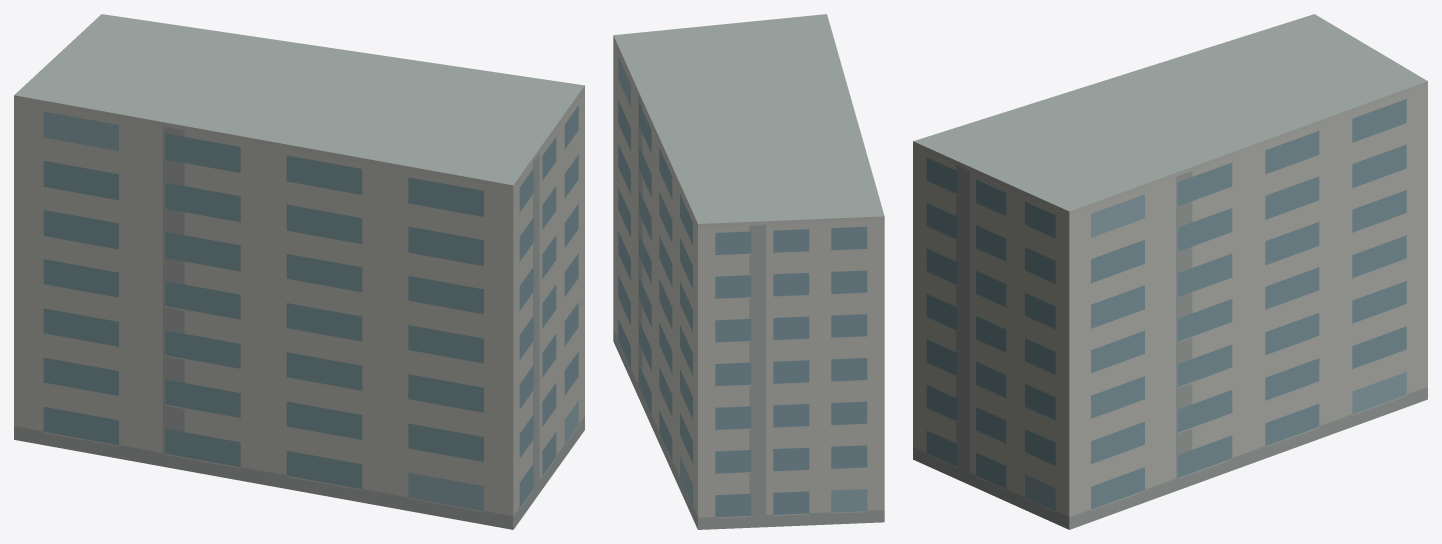
File: survey-upis-32683962.glb
3 renders of one model, left to right at view 1: azimuth 30°, elevation 25°; view 2: azimuth 150°, elevation 25°; view 3: azimuth 270°, elevation 25°, orthographic. The views are drawn at different scales.
Parts seen in each view (by area): view 1: survey-upis-32683962.tmp; view 2: survey-upis-32683962.tmp; view 3: survey-upis-32683962.tmp.
Boxes of the visible parts, <box> form: survey-upis-32683962.tmp: <box>14,14,584,529</box>; survey-upis-32683962.tmp: <box>613,14,884,529</box>; survey-upis-32683962.tmp: <box>913,14,1427,529</box>.
Size of the model in its own units: 25.56 by 19.2 by 28.14.
